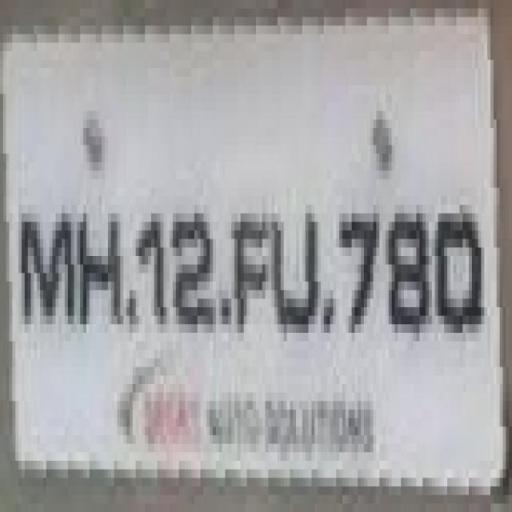number plate: (12, 18, 512, 452)
